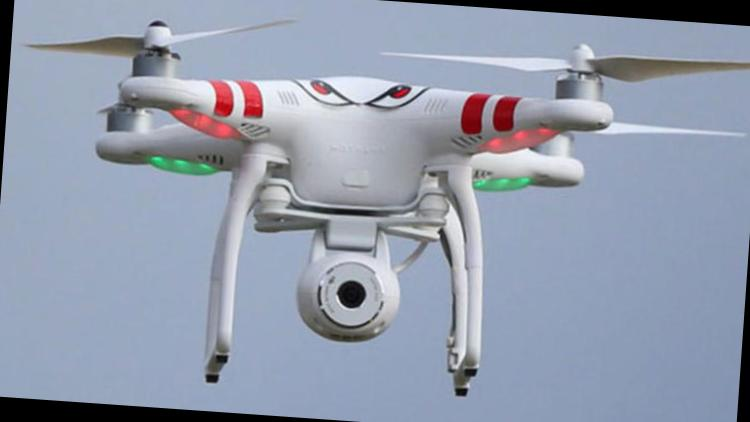drone: (16, 0, 749, 233)
